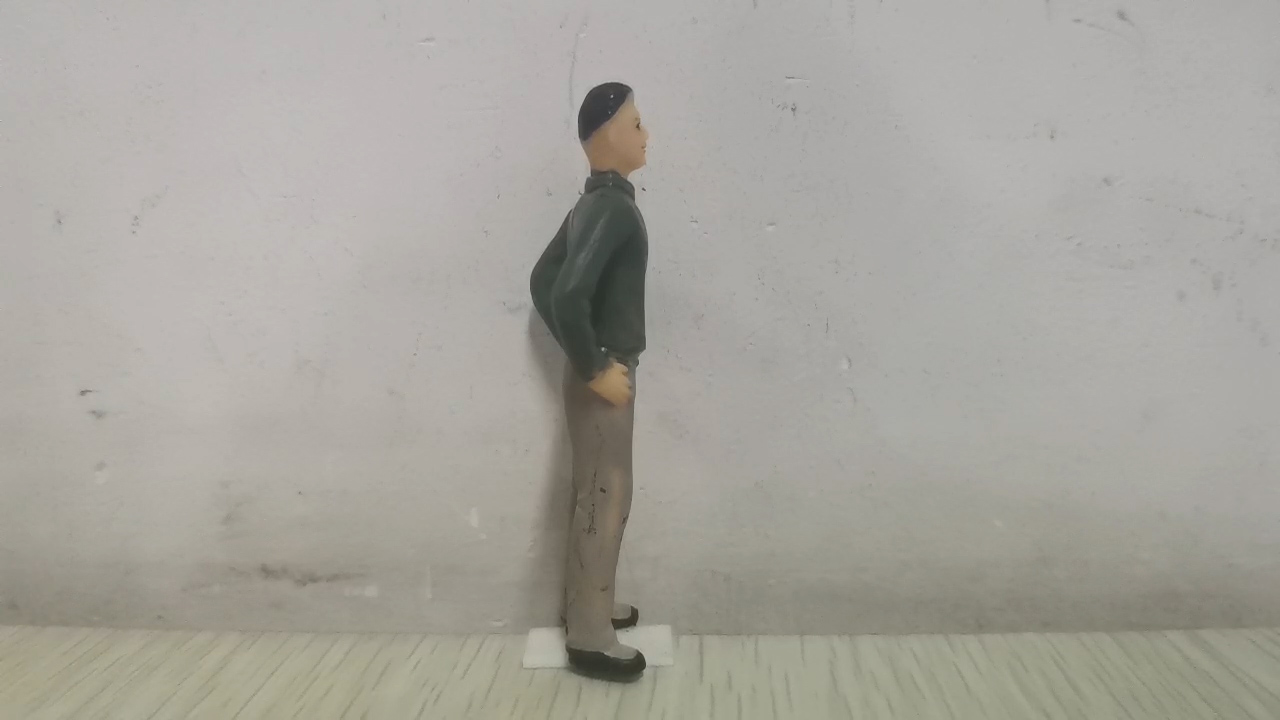person: (527, 80, 651, 678)
